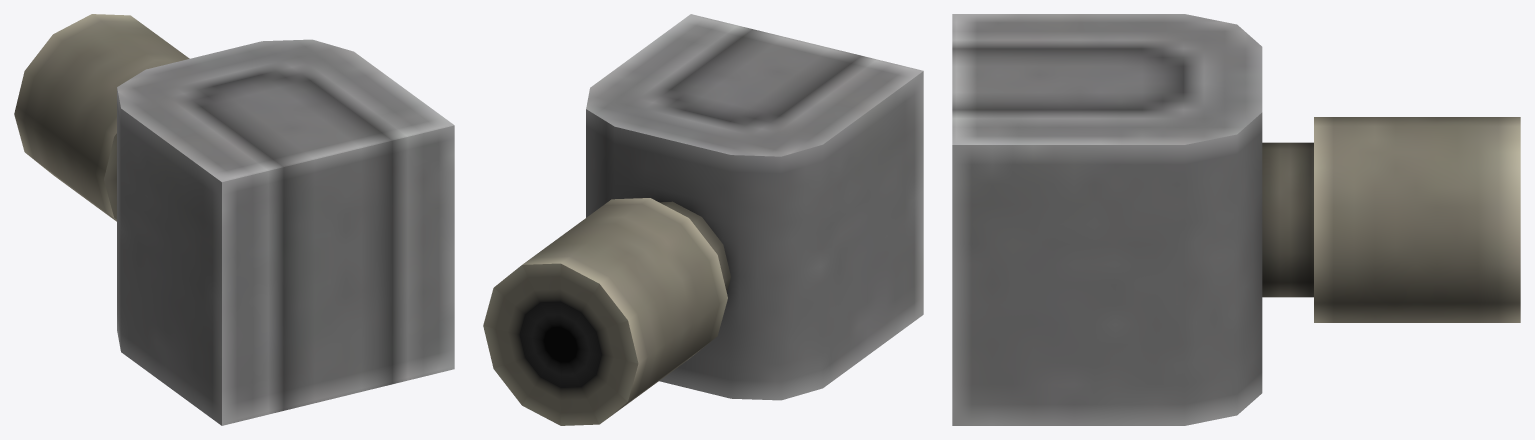
The model's file is sp_star_tracker_srf_1.obj.
3 views of the same model, side by side, from view 1: azimuth 30°, elevation 25°; view 2: azimuth 150°, elevation 25°; view 3: azimuth 270°, elevation 25° (orthographic). The views are drawn at different scales.
Visible parts, largest first — view 1: mesh1; view 2: mesh1; view 3: mesh1.
Part boxes in pixels (x1,y1,x2,y2): mesh1: (14,14,454,425); mesh1: (483,14,923,425); mesh1: (952,14,1520,425).
Bounding box in the file's own units: 0.075 × 0.075 × 0.1375.
1 material, 1 textured.
